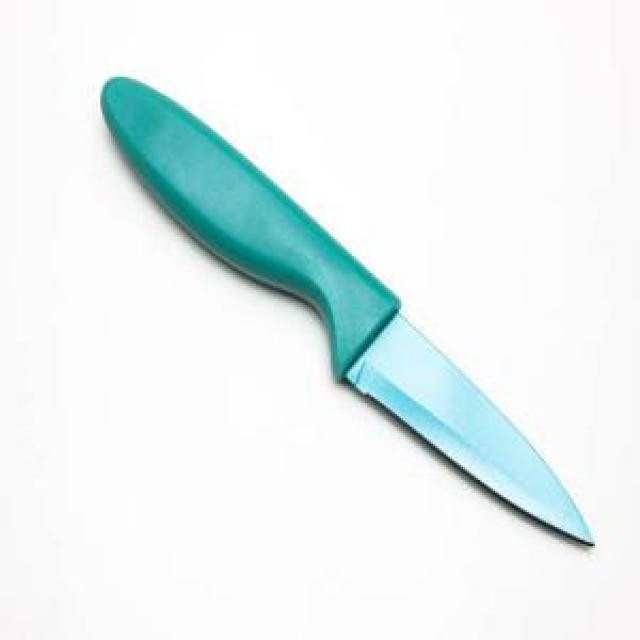knife: (100, 68, 600, 554)
